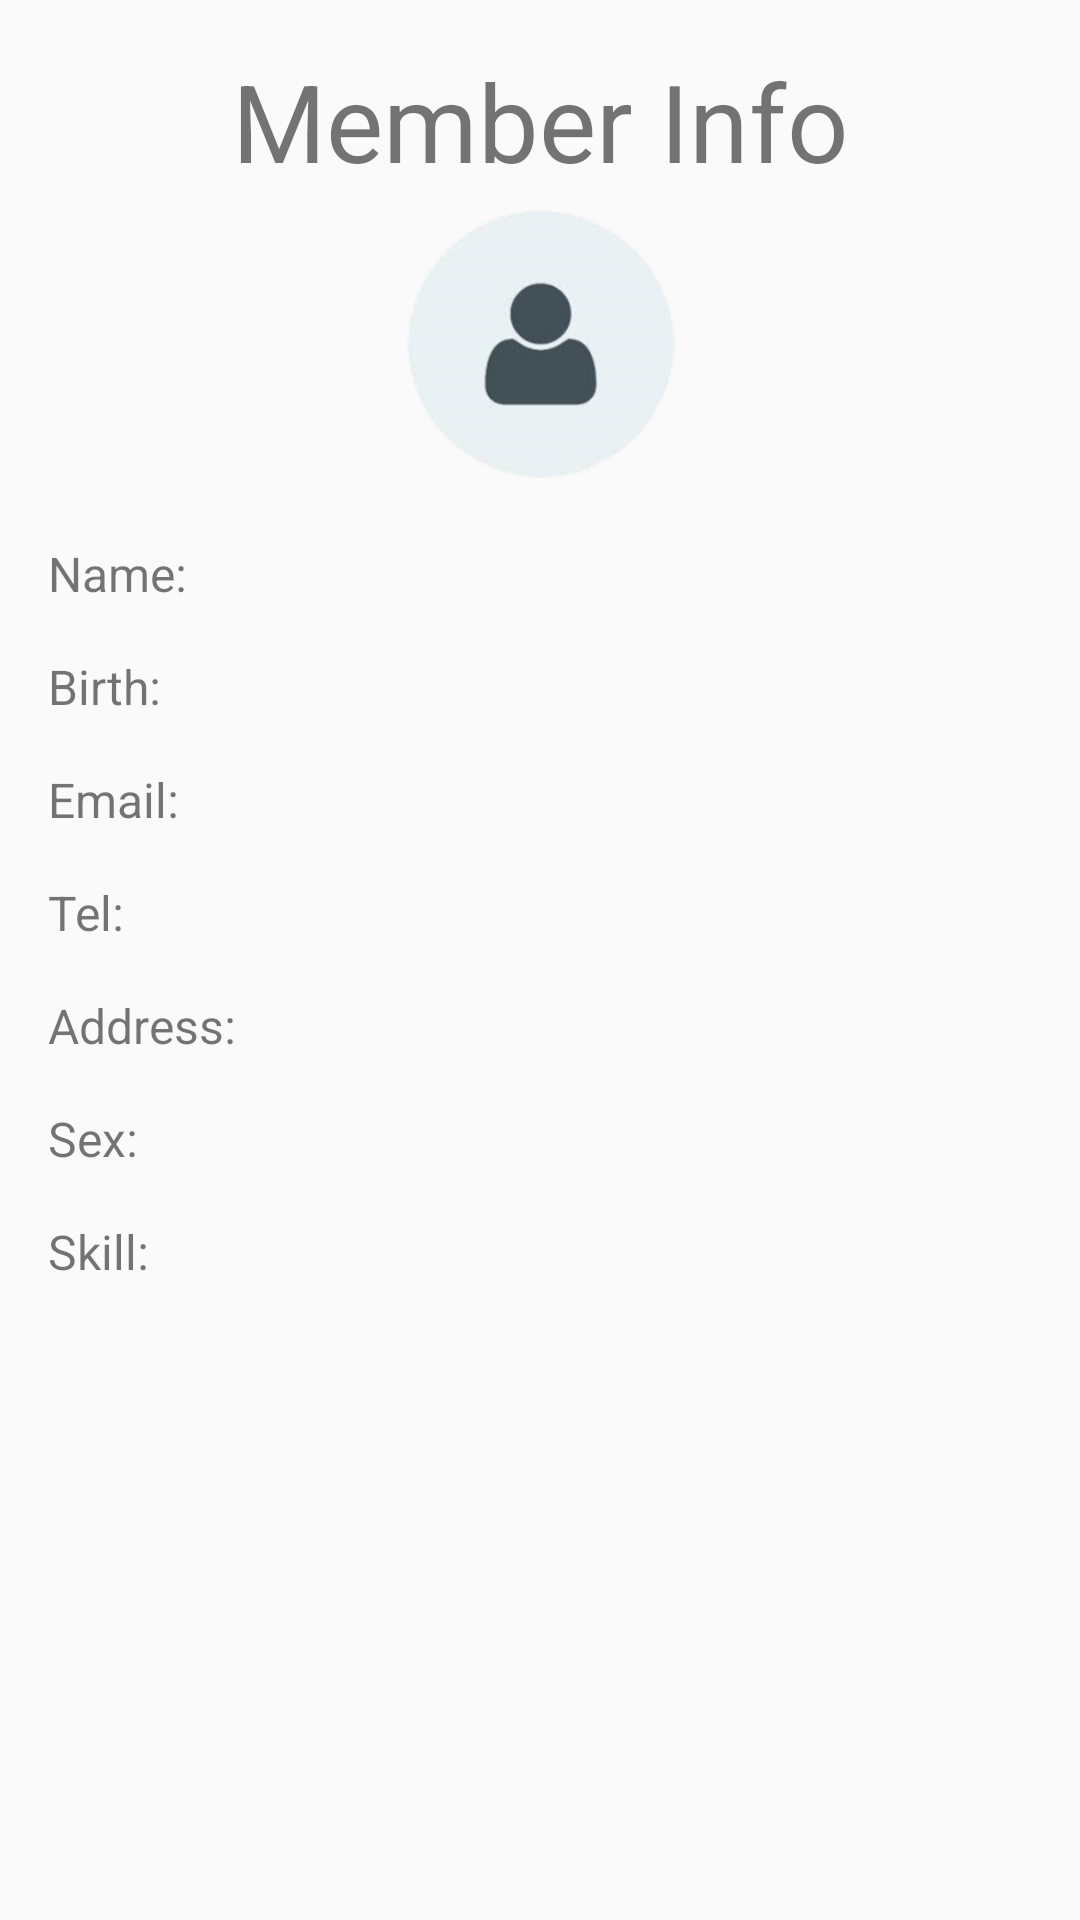

Icons on this 1080x1920 Android screen, each with the point to tap as [x,y]:
person: [541,344]
